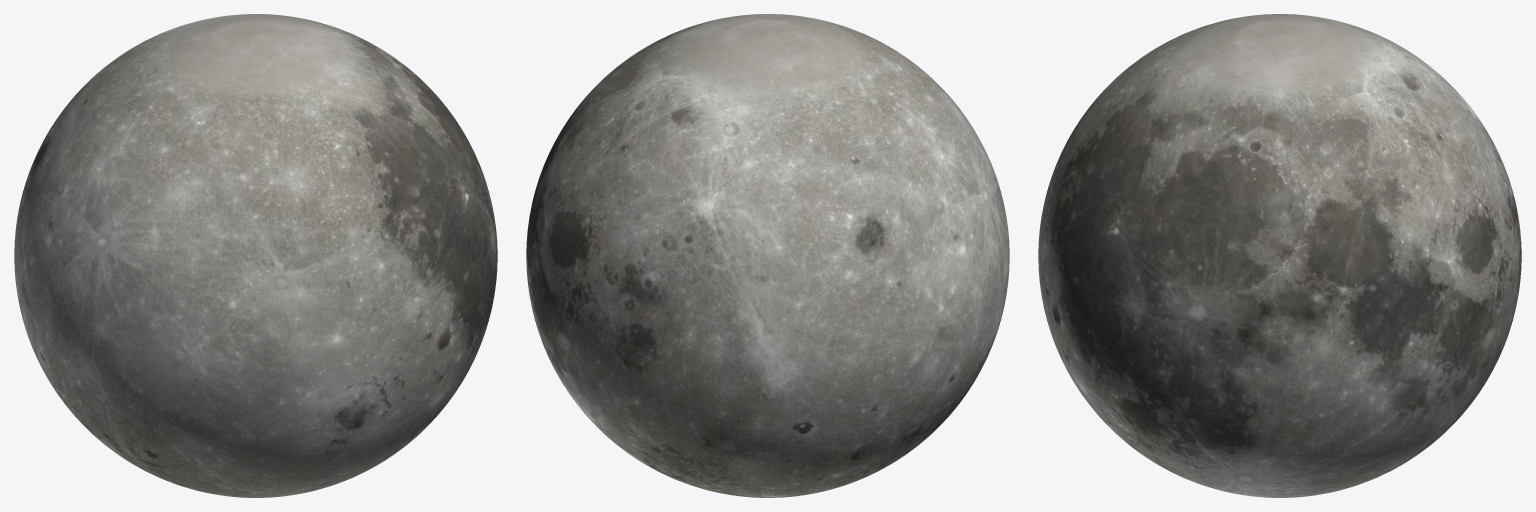
File: moon.glb
The picture shows the model from 3 angles, left to right: view 1: azimuth 30°, elevation 25°; view 2: azimuth 150°, elevation 25°; view 3: azimuth 270°, elevation 25°; orthographic projection.
Parts seen in each view (by area): view 1: Moon_Moon_0; view 2: Moon_Moon_0; view 3: Moon_Moon_0.
Boxes of the visible parts, <box> form: Moon_Moon_0: <box>14,14,497,497</box>; Moon_Moon_0: <box>526,14,1009,497</box>; Moon_Moon_0: <box>1038,14,1521,497</box>.
Bounding box in the file's own units: 1.98 × 2 × 1.98.
Materials: 1 (1 with a texture image).
